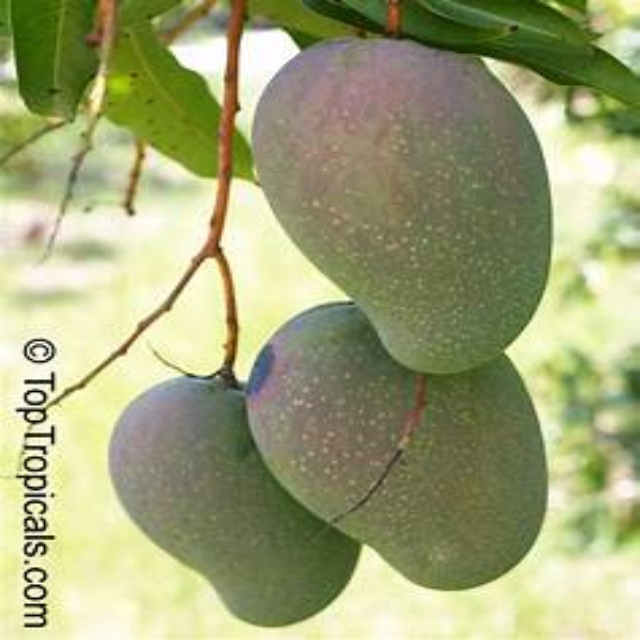mango: (256, 35, 551, 370), (233, 307, 567, 582), (109, 377, 361, 626)
